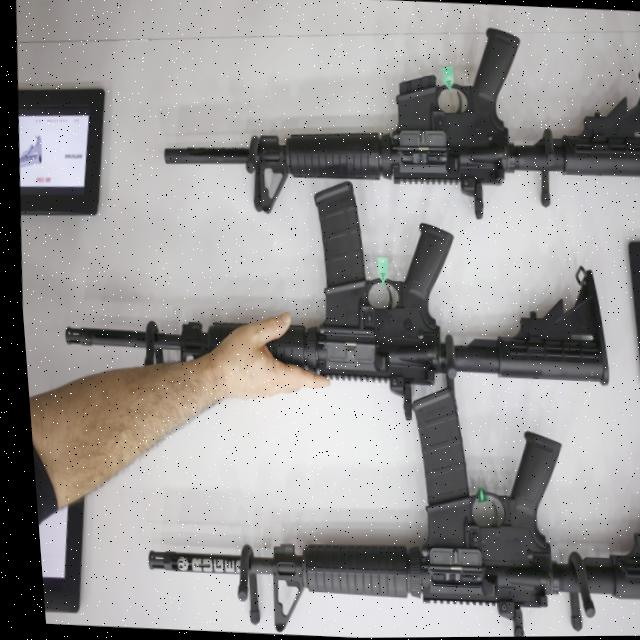firearm: (45, 165, 617, 436), (123, 370, 640, 639), (149, 9, 640, 238), (15, 134, 42, 170)
